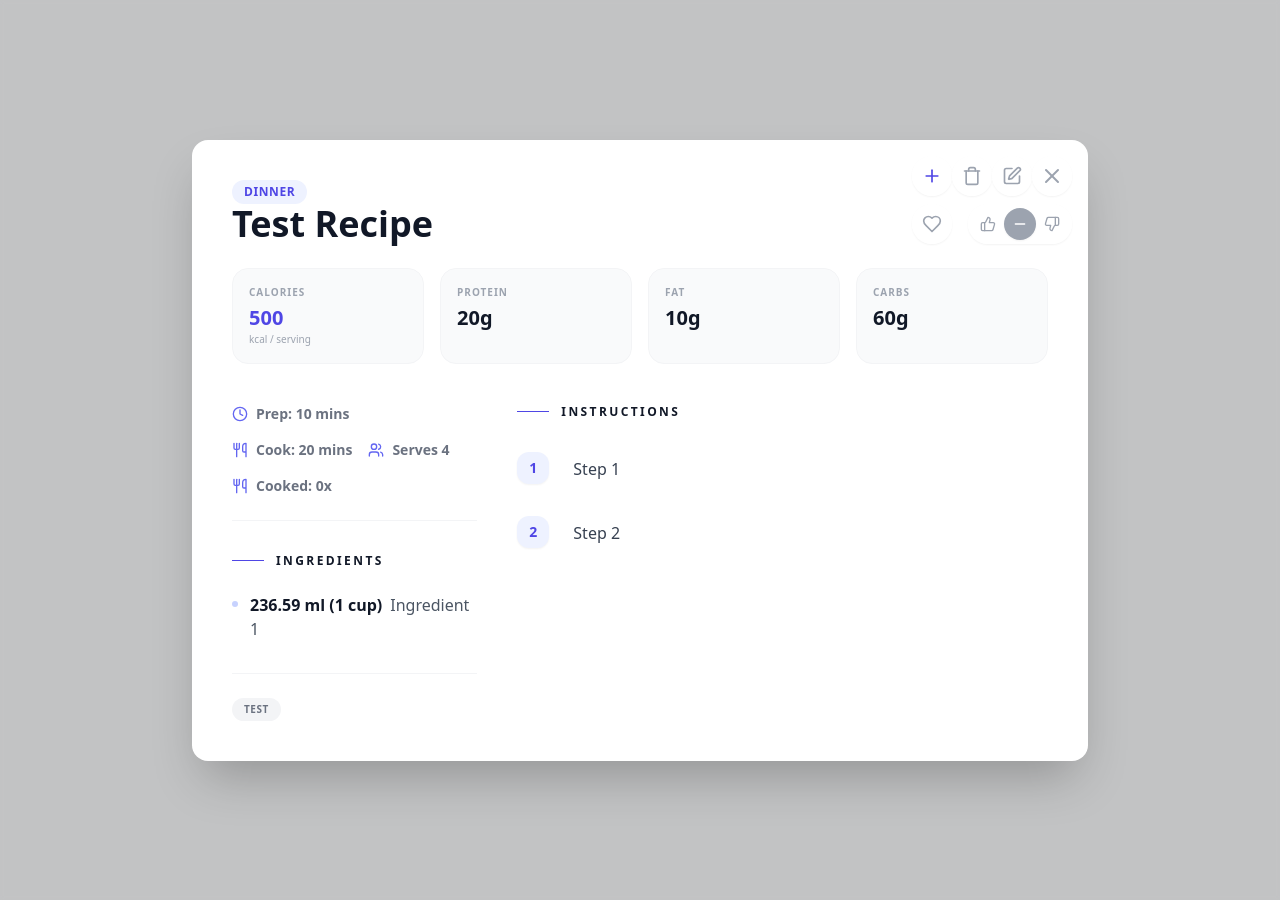
Test: RecipeModal › can add tags in edit mode
Step 1. Click the button titled "Edit Recipe" → [1012, 176], box [992,156,1032,196]
(page scrolled)
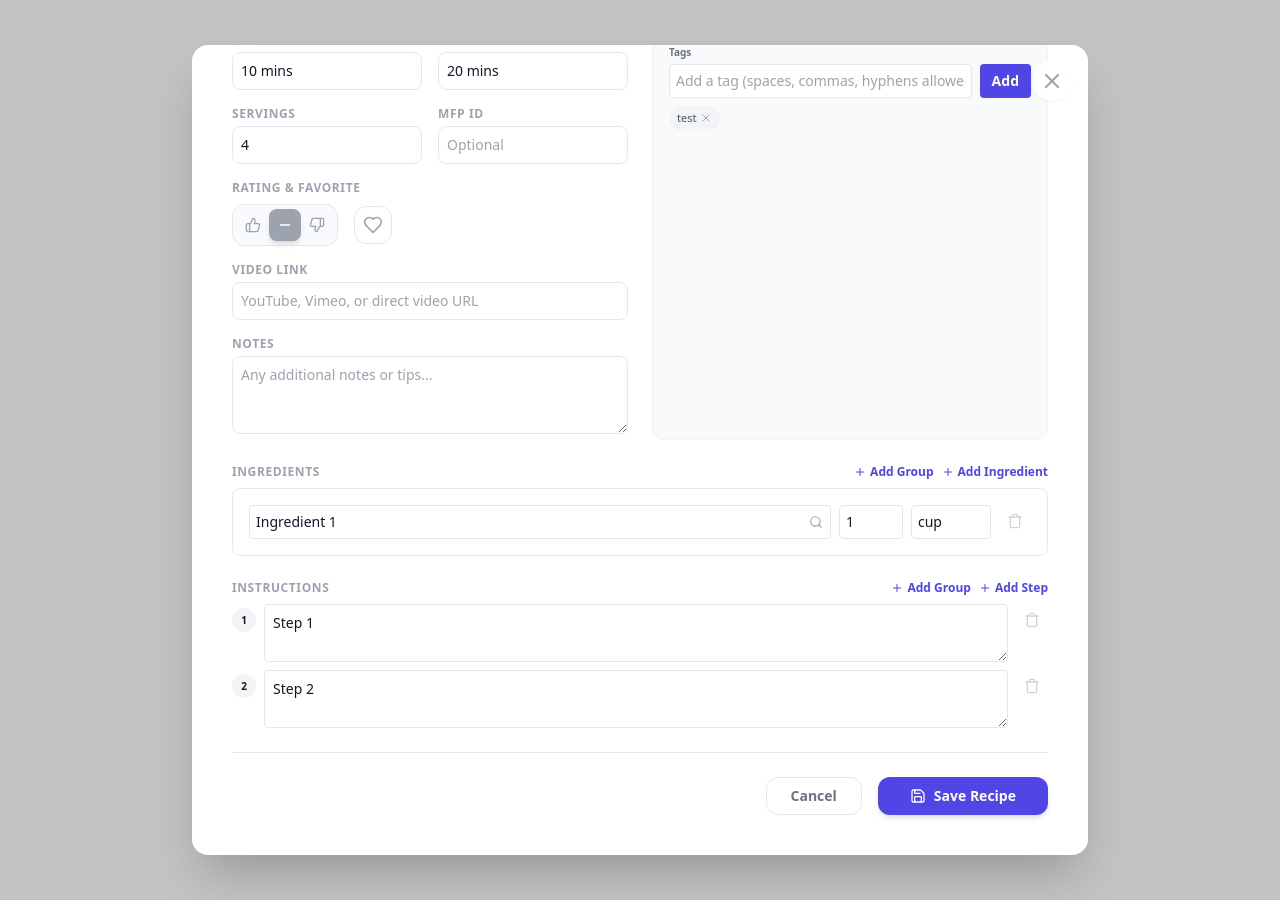
Result: the button "Save Recipe" is shown at [878,777,1048,815]
